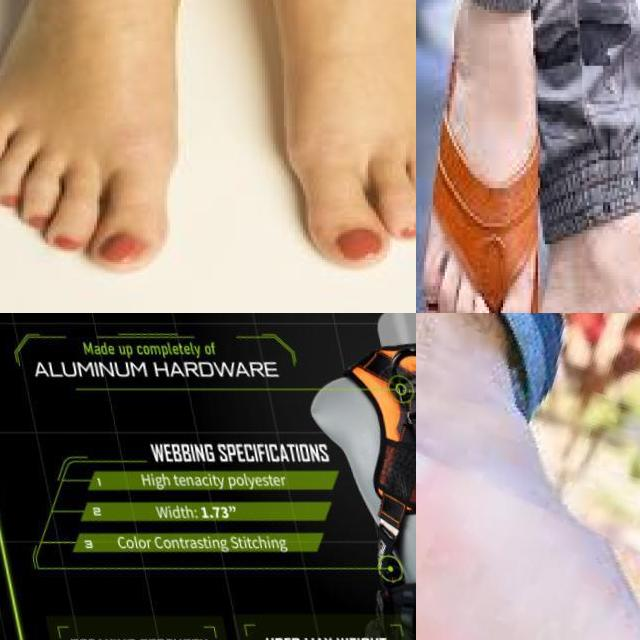Barefoots: (0, 0, 416, 275), (416, 418, 640, 640)
Harness: (351, 345, 416, 578)
Sandals: (423, 15, 542, 313)
